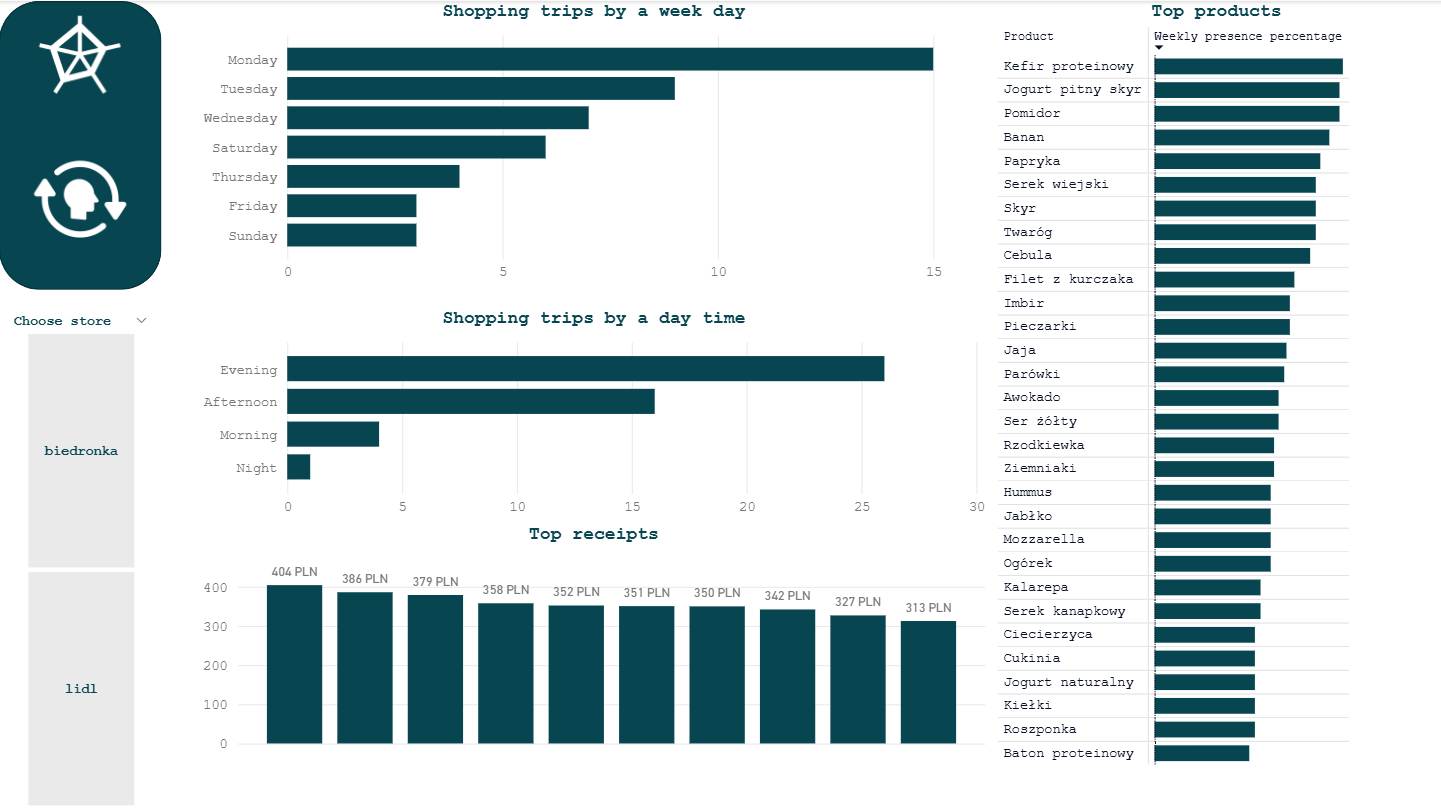

The page's visual inventory and layout, read from the dashboard file:
{"tool":"powerbi","page":{"name":"Habits","canvas":[1280,720],"ordinal":1},"visuals":[{"type":"barChart","title":"Shopping trips by a week day","fields":{"Category":["gold_shopping_day_of_week.day_of_week"],"Y":["Sum(gold_shopping_day_of_week.receipt_count)"]},"box":[176,0,704,256],"z":0},{"type":"tableEx","title":"Top products","fields":{"Values":["gold_product_frequency.clean_name","Avg(gold_product_frequency.weekly_presence_pct)"]},"box":[880,0,400,720],"z":1000},{"type":"barChart","title":"Shopping trips by a day time","fields":{"Category":["gold_shopping_time_of_day.time_of_day"],"Y":["Sum(gold_shopping_time_of_day.receipt_count)"]},"box":[176,272,704,192],"z":2000},{"type":"columnChart","title":"Top receipts","fields":{"Category":["gold_receipts_histogram.receipt_id"],"Y":["Sum(gold_receipts_histogram.total_receipt_price)"]},"box":[176,464,704,208],"z":3000},{"type":"shape","box":[0,0,144,256],"z":4000},{"type":"slicer","fields":{"Values":["gold_dim_store.store"]},"box":[0,272,144,448],"z":5000},{"type":"image","box":[0,0,144,96],"z":6000},{"type":"image","box":[0,128,144,96],"z":7000}]}

Visuals, with their boxes in screenshot pixels (x1, y1, x2, y2), scaled from the page's 1280x720 canvas onto the 1441x811 screenshot:
"Shopping trips by a week day" barChart: bbox=[198, 0, 991, 288]
"Top products" tableEx: bbox=[991, 0, 1440, 810]
"Shopping trips by a day time" barChart: bbox=[198, 306, 991, 523]
"Top receipts" columnChart: bbox=[198, 523, 991, 757]
shape: bbox=[0, 0, 162, 288]
slicer - gold_dim_store.store: bbox=[0, 306, 162, 810]
image: bbox=[0, 0, 162, 108]
image: bbox=[0, 144, 162, 252]
